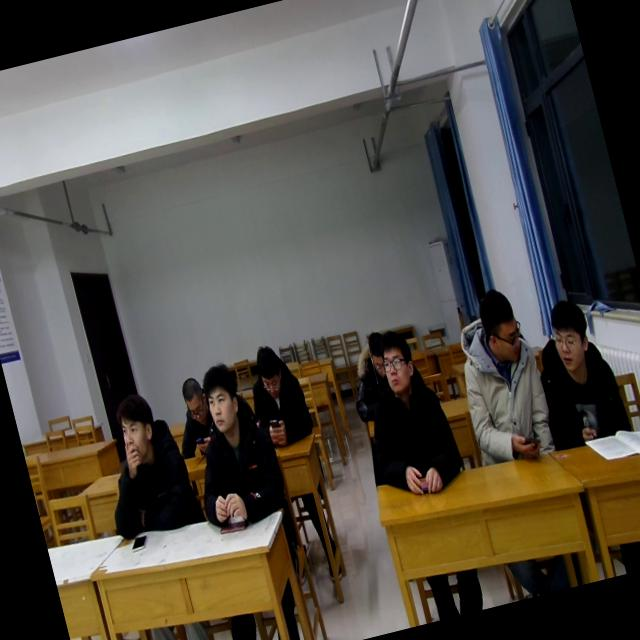bow: (237, 336, 318, 452), (336, 328, 404, 426)
down: (248, 338, 288, 401), (172, 368, 212, 429), (362, 326, 392, 381)
lookup: (190, 352, 250, 440), (107, 385, 165, 470), (541, 294, 598, 378), (372, 324, 422, 400)
sit: (341, 318, 470, 508), (440, 279, 563, 478), (168, 352, 294, 534), (521, 286, 636, 454), (84, 382, 203, 544), (162, 372, 222, 463)
